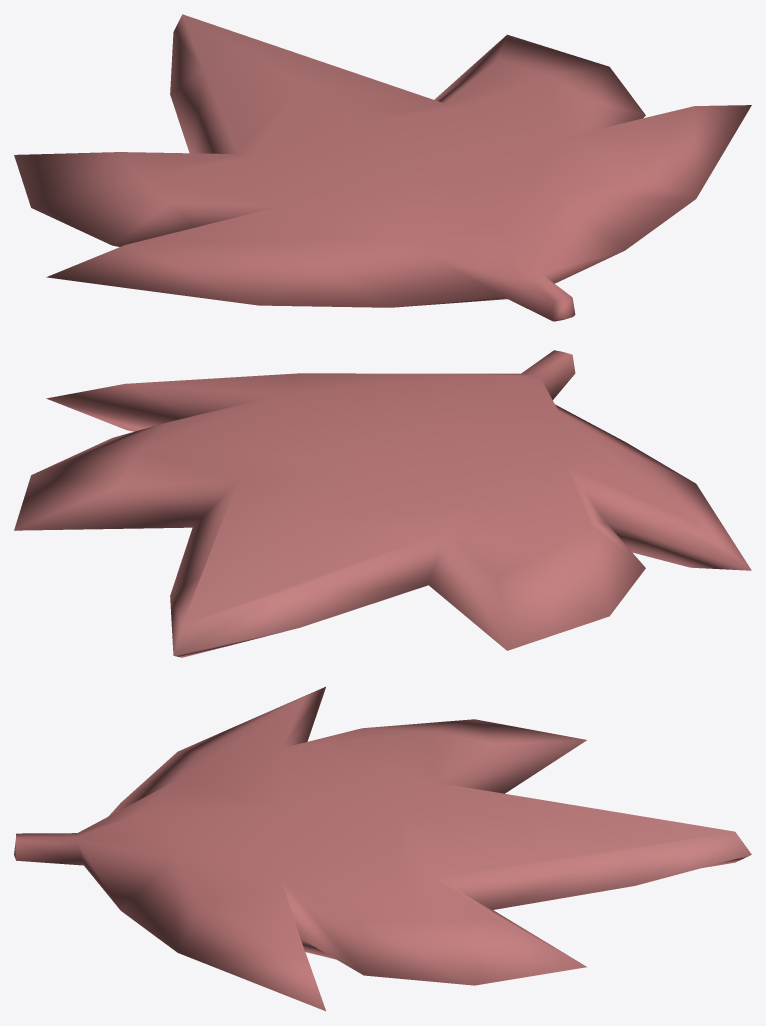
The model's file is M_TreeLeaf_08.fbx.
The picture shows the model from 3 angles, top to bottom: view 1: azimuth 30°, elevation 25°; view 2: azimuth 150°, elevation 25°; view 3: azimuth 270°, elevation 25°; orthographic projection. The views are drawn at different scales.
Visible parts, largest first — view 1: M_TreeLeaf_08; view 2: M_TreeLeaf_08; view 3: M_TreeLeaf_08.
Part boxes in pixels (x1,y1,x2,y2): M_TreeLeaf_08: [14, 14, 751, 321]; M_TreeLeaf_08: [14, 350, 751, 657]; M_TreeLeaf_08: [14, 686, 751, 1011].
Bounding box in the file's own units: 85.08 × 9.62 × 81.63.
Materials: 1 (1 with a texture image).
